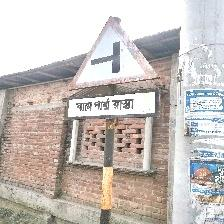Side-road-left: (67, 15, 161, 112)
